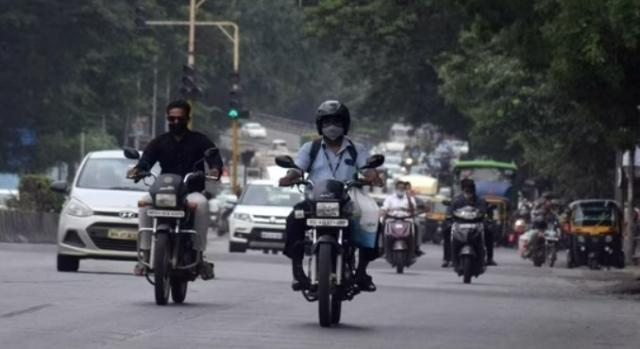licensePlate: (304, 219, 351, 230), (142, 210, 186, 219), (456, 222, 480, 230), (397, 222, 404, 230)
motorcycle: (277, 98, 382, 331), (123, 98, 225, 306), (385, 173, 427, 281), (453, 177, 495, 284)
withHelmet: (315, 102, 353, 140)
withoutHelmet: (165, 100, 198, 131), (394, 180, 410, 197), (465, 183, 476, 199)
